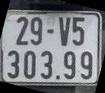-: (47, 29, 54, 33)
.: (56, 75, 60, 80)
0: (24, 51, 36, 79)
2: (17, 17, 27, 45)
3: (8, 50, 19, 78), (41, 51, 52, 79)
5: (73, 17, 84, 46)
9: (31, 17, 42, 45), (81, 51, 92, 79), (64, 52, 75, 79)
V: (58, 17, 70, 46)
